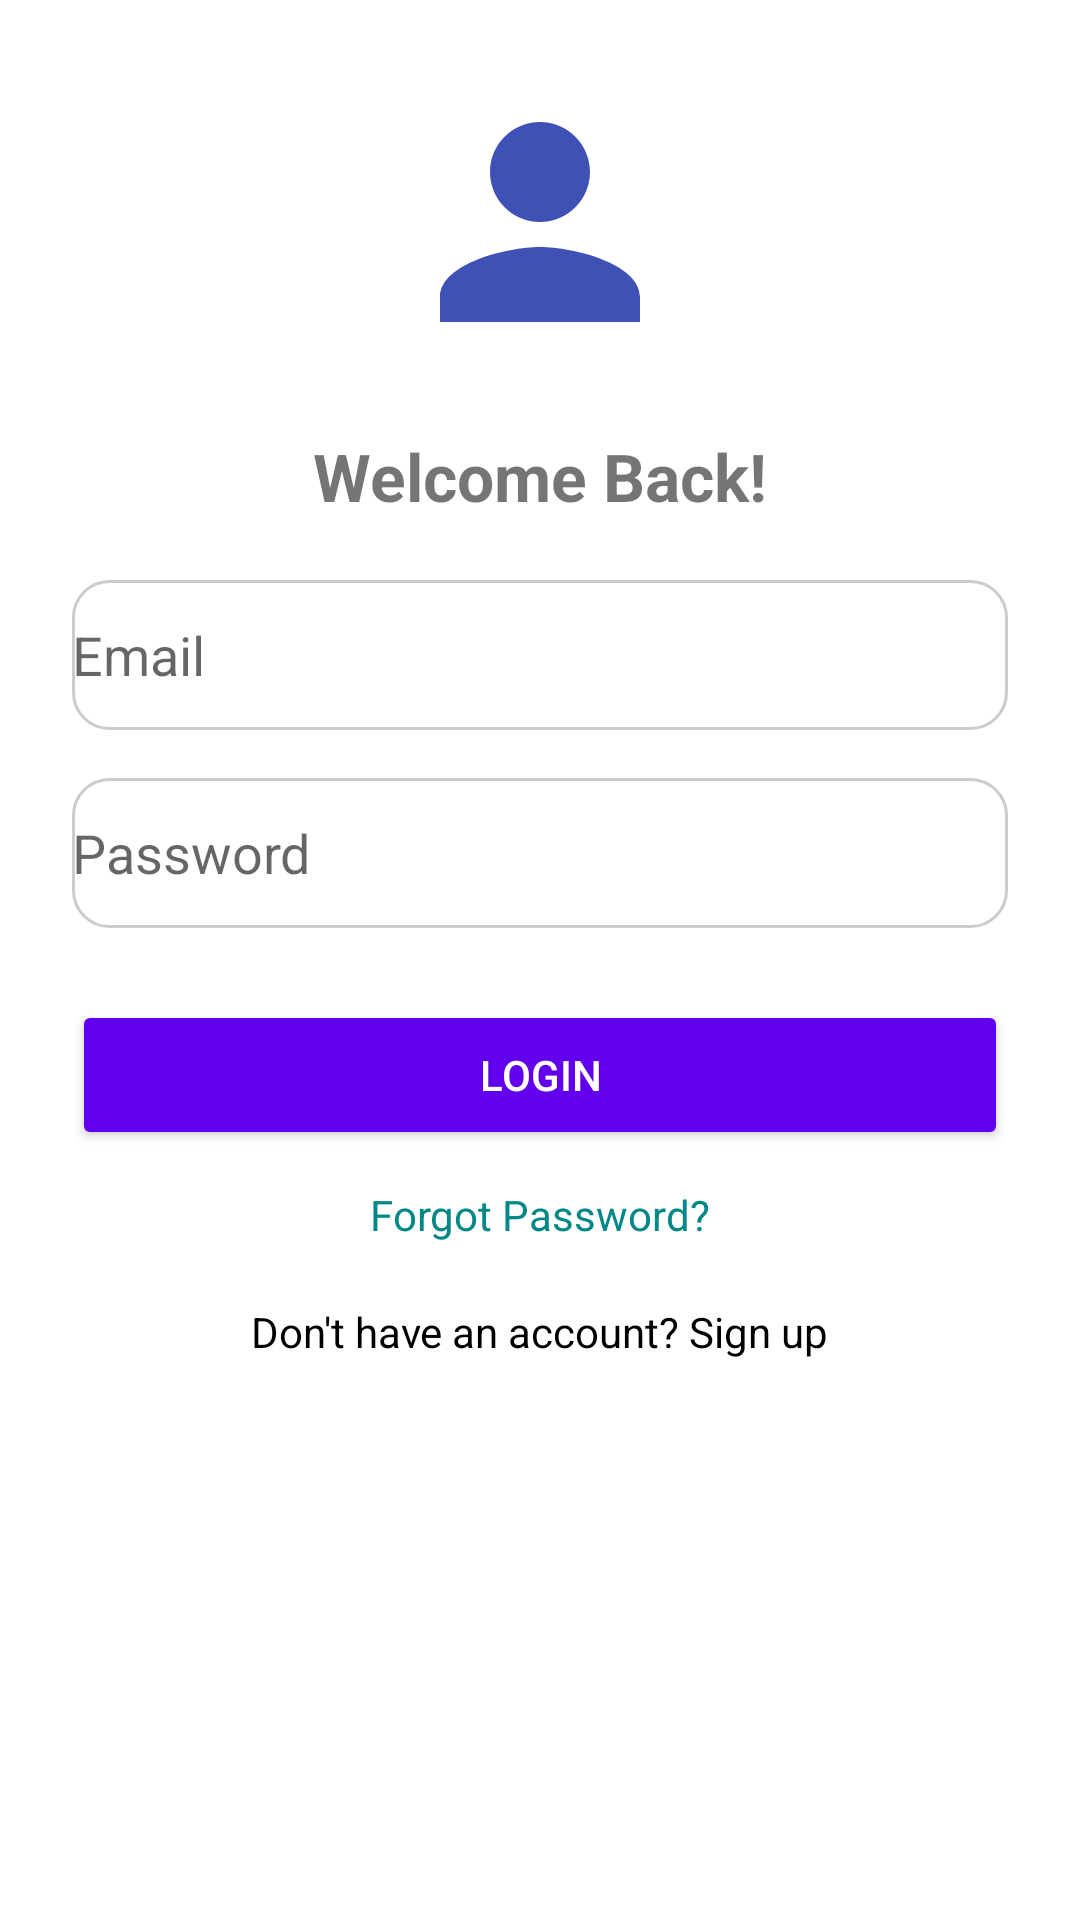

Named icons in this screenshot (1080 x 1920) and their bounding boxes, [left=x1, top=y1, right=x2, bottom=y2]:
Login: [left=440, top=122, right=640, bottom=322]
